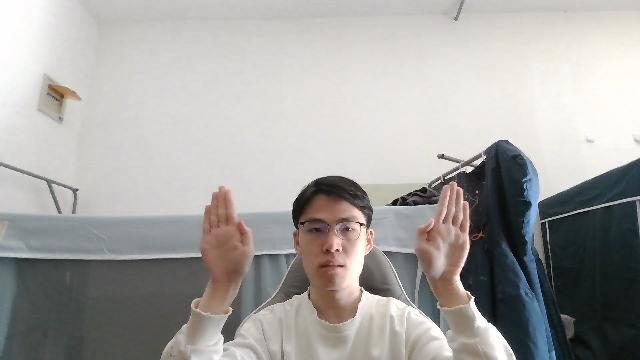five: (412, 180, 471, 286), (198, 184, 256, 290)
